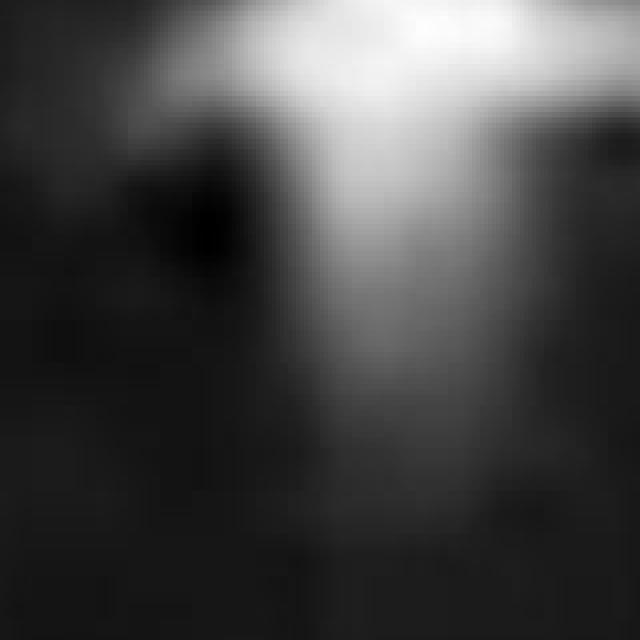person: (69, 1, 640, 412)
